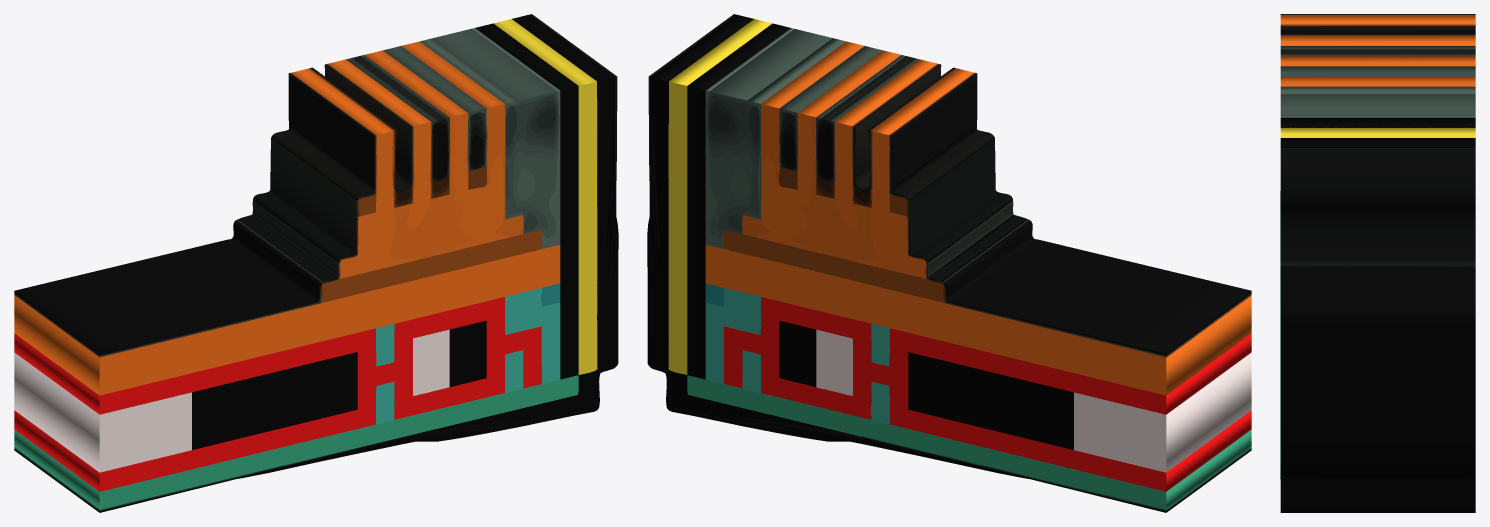
Rendered from Toadz_864.glb.
The picture shows the model from 3 angles, left to right: view 1: azimuth 30°, elevation 25°; view 2: azimuth 150°, elevation 25°; view 3: azimuth 270°, elevation 25°; orthographic projection. The views are drawn at different scales.
Visible parts, largest first — view 1: Curve; view 2: Curve; view 3: Curve.
Part boxes in pixels (left/top/right/bottom): Curve: left=14, top=14, right=618, bottom=512; Curve: left=647, top=14, right=1251, bottom=512; Curve: left=1280, top=14, right=1475, bottom=512.
Bounding box in the file's own units: 3.51 × 2.13 × 1.
